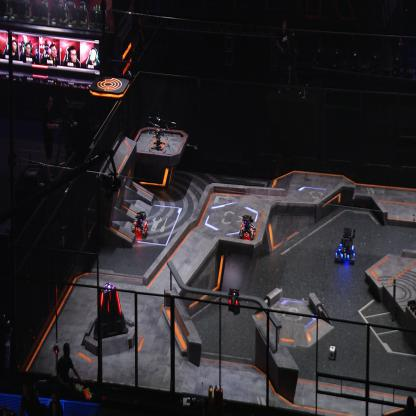car: (334, 226, 356, 266), (239, 213, 257, 239), (131, 209, 148, 236)
